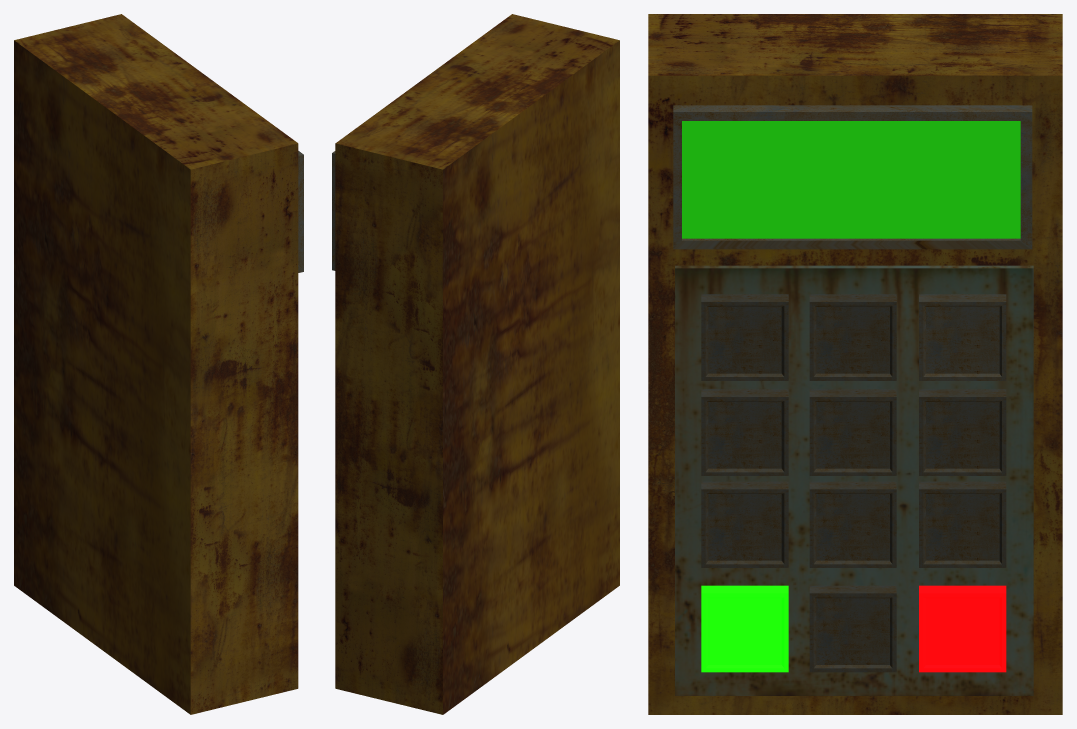
File: security_keypad.glb
3 views of the same model, side by side, from view 1: azimuth 30°, elevation 25°; view 2: azimuth 150°, elevation 25°; view 3: azimuth 270°, elevation 25° (orthographic). The views are drawn at different scales.
Visible parts, largest first — view 1: Cube, Cube.003; view 2: Cube, Cube.003; view 3: Cube, Cube.002, Cube.003, Cube.014, Cube.012, Cube.013, Cube.001, Cube.004, Cube.005, Cube.006, Cube.007, Cube.008 (+3 smaller).
Boxes of the visible parts, box(x1,y1,x2,y2) form: Cube: box(14, 14, 298, 714); Cube.003: box(298, 151, 303, 272); Cube: box(335, 14, 619, 714); Cube.003: box(332, 151, 335, 270); Cube: box(648, 14, 1062, 714); Cube.002: box(675, 265, 1033, 695); Cube.003: box(673, 105, 1032, 249); Cube.014: box(701, 585, 788, 672); Cube.012: box(919, 585, 1006, 672); Cube.013: box(809, 585, 896, 672); Cube.001: box(701, 294, 788, 380); Cube.004: box(809, 294, 896, 380); Cube.005: box(919, 294, 1006, 380); Cube.006: box(919, 389, 1006, 475); Cube.007: box(809, 389, 896, 475); Cube.008: box(701, 389, 788, 475).
Size of the model in its own units: 0.4478 by 1.86 by 1.09.
Materials: 16 (13 with a texture image).
